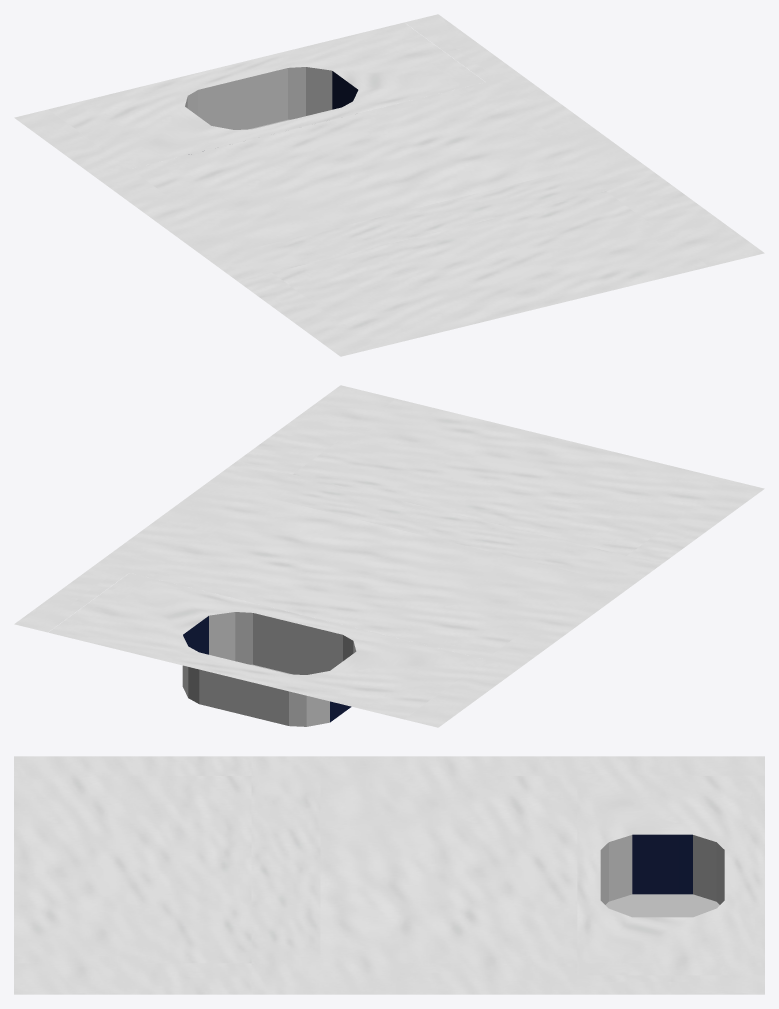
The model's file is hole04.FBX.
3 renders of one model, top to bottom at view 1: azimuth 30°, elevation 25°; view 2: azimuth 150°, elevation 25°; view 3: azimuth 270°, elevation 25°, orthographic. The views are drawn at different scales.
Visible parts, largest first — view 1: Object055; view 2: Object055; view 3: Object055.
Part boxes in pixels (x1,y1,x2,y2): Object055: (14,14,764,356); Object055: (14,385,764,727); Object055: (14,756,764,994).
Size of the model in its own units: 600 by 70 by 800.
